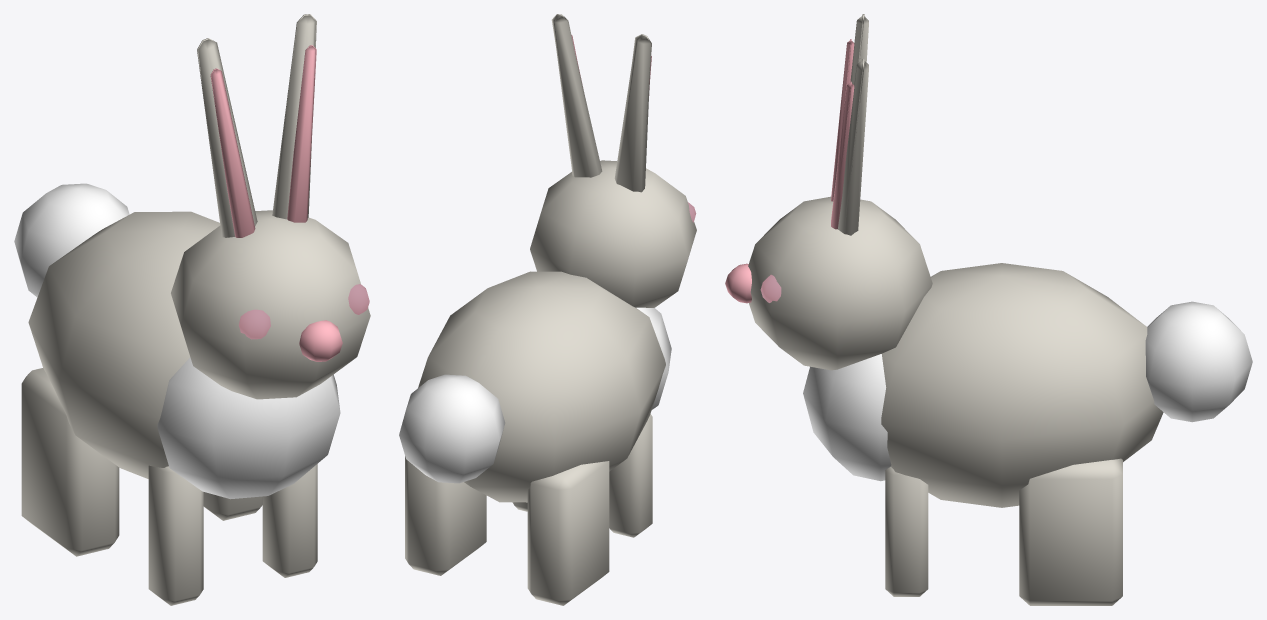
Rendered from rabbit.glb.
The picture shows the model from 3 angles, left to right: view 1: azimuth 30°, elevation 25°; view 2: azimuth 150°, elevation 25°; view 3: azimuth 270°, elevation 25°; orthographic projection. The views are drawn at different scales.
Parts seen in each view (by area): view 1: Body, Head, LeftLeg, LeftArm, Tail, RightArm, RightLeg; view 2: Body, Head, LeftLeg, Tail, RightLeg, LeftArm; view 3: Body, Head, RightLeg, Tail, RightArm.
Part boxes in pixels (bbox=[...]): Body: bbox=[28, 211, 340, 499]; Head: bbox=[171, 14, 370, 399]; LeftLeg: bbox=[21, 368, 119, 556]; LeftArm: bbox=[148, 465, 203, 605]; Tail: bbox=[14, 183, 129, 297]; RightArm: bbox=[262, 464, 317, 577]; RightLeg: bbox=[203, 492, 262, 520]; Body: bbox=[418, 271, 671, 502]; Head: bbox=[530, 14, 696, 307]; LeftLeg: bbox=[527, 461, 609, 605]; Tail: bbox=[399, 374, 505, 483]; RightLeg: bbox=[405, 456, 486, 575]; LeftArm: bbox=[609, 414, 652, 537]; Body: bbox=[803, 263, 1163, 507]; Head: bbox=[725, 14, 932, 370]; RightLeg: bbox=[1019, 458, 1122, 605]; Tail: bbox=[1145, 301, 1252, 422]; RightArm: bbox=[885, 466, 928, 596].
Size of the model in its own units: 0.6 by 1.35 by 1.22.
